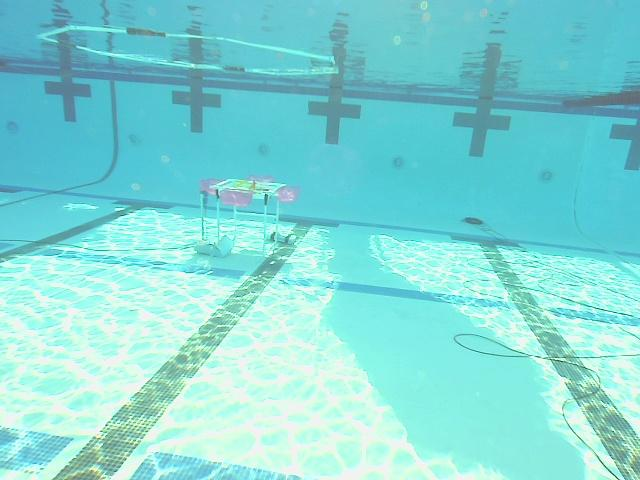table: (199, 175, 301, 263)
